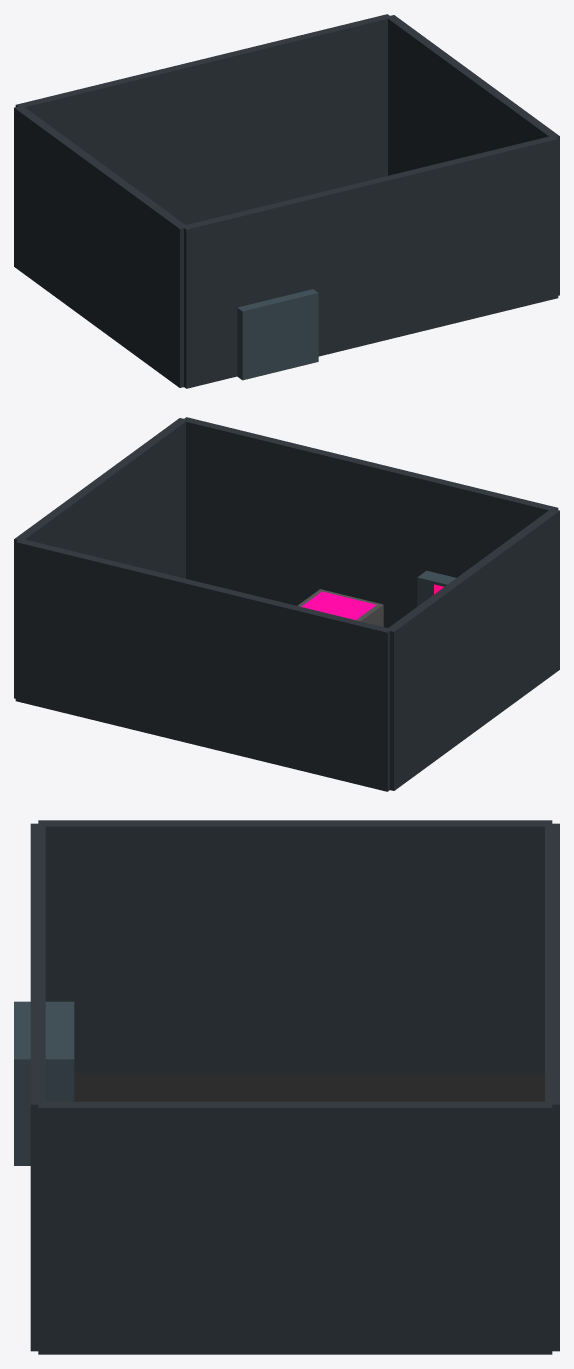
File: opening-lab.glb
The picture shows the model from 3 angles, top to bottom: view 1: azimuth 30°, elevation 25°; view 2: azimuth 150°, elevation 25°; view 3: azimuth 270°, elevation 25°; orthographic projection. The views are drawn at different scales.
Parts seen in each view (by area): view 1: Wall_South, Wall_North, Wall_West, Wall_East, Desk; view 2: Wall_North, Wall_South, Wall_West, Wall_East, Pod_Glow, Desk, Pod_Base; view 3: Wall_East, Wall_West, Floor, Wall_South, Wall_North, Desk.
Boxes of the visible parts, box(x1,y1,x2,y2) form: Wall_South: box(184, 135, 558, 388); Wall_North: box(15, 14, 390, 224); Wall_West: box(14, 105, 187, 387); Wall_East: box(386, 15, 559, 295); Desk: box(237, 289, 318, 380); Wall_North: box(15, 539, 391, 791); Wall_South: box(183, 417, 558, 627); Wall_West: box(386, 508, 559, 790); Wall_East: box(14, 418, 187, 698); Pod_Glow: box(301, 591, 376, 620); Desk: box(417, 570, 455, 606); Pod_Base: box(297, 589, 383, 626); Wall_East: box(38, 1101, 552, 1354); Wall_West: box(38, 820, 552, 1073); Floor: box(74, 1073, 544, 1101); Wall_South: box(30, 823, 45, 1351); Wall_North: box(545, 823, 559, 1351); Desk: box(14, 1001, 74, 1165).
Bounding box in the file's own units: 9 × 3.6 × 7.22.
